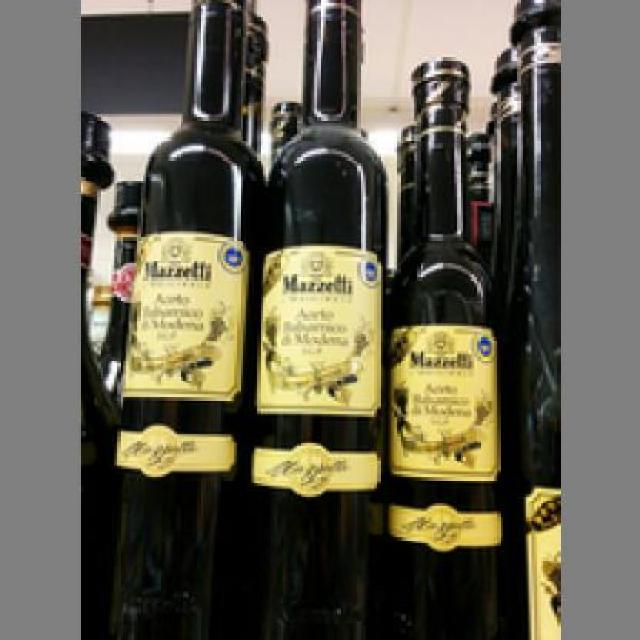Vinegar: (107, 0, 249, 632), (251, 0, 386, 637), (394, 57, 512, 637)
